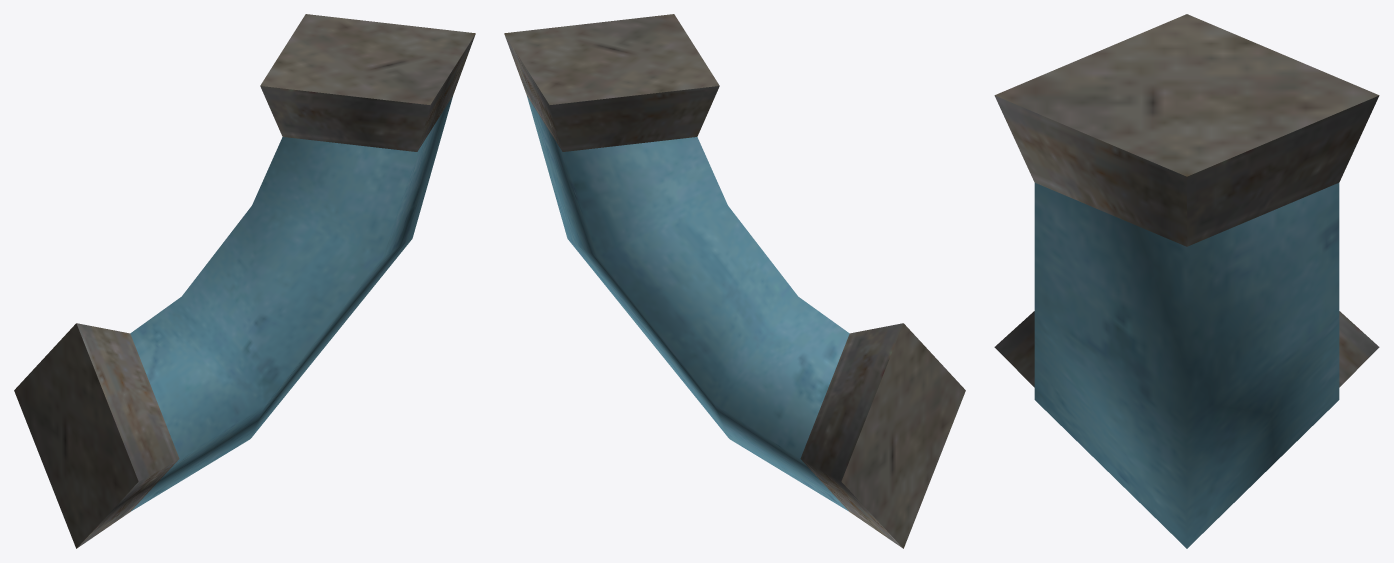
File: nt_2020_pipes_90_blue_LOD2.obj
The picture shows the model from 3 angles, left to right: view 1: azimuth 30°, elevation 25°; view 2: azimuth 150°, elevation 25°; view 3: azimuth 270°, elevation 25°; orthographic projection. The views are drawn at different scales.
Parts seen in each view (by area): view 1: mtl_nt_2020_pipes_modular_blue; view 2: mtl_nt_2020_pipes_modular_blue; view 3: mtl_nt_2020_pipes_modular_blue.
Part boxes in pixels (<box>): mtl_nt_2020_pipes_modular_blue: <box>14,14,475,548</box>; mtl_nt_2020_pipes_modular_blue: <box>504,14,965,548</box>; mtl_nt_2020_pipes_modular_blue: <box>994,14,1379,548</box>.
Bounding box in the file's own units: 83.51 × 83.51 × 45.1.
